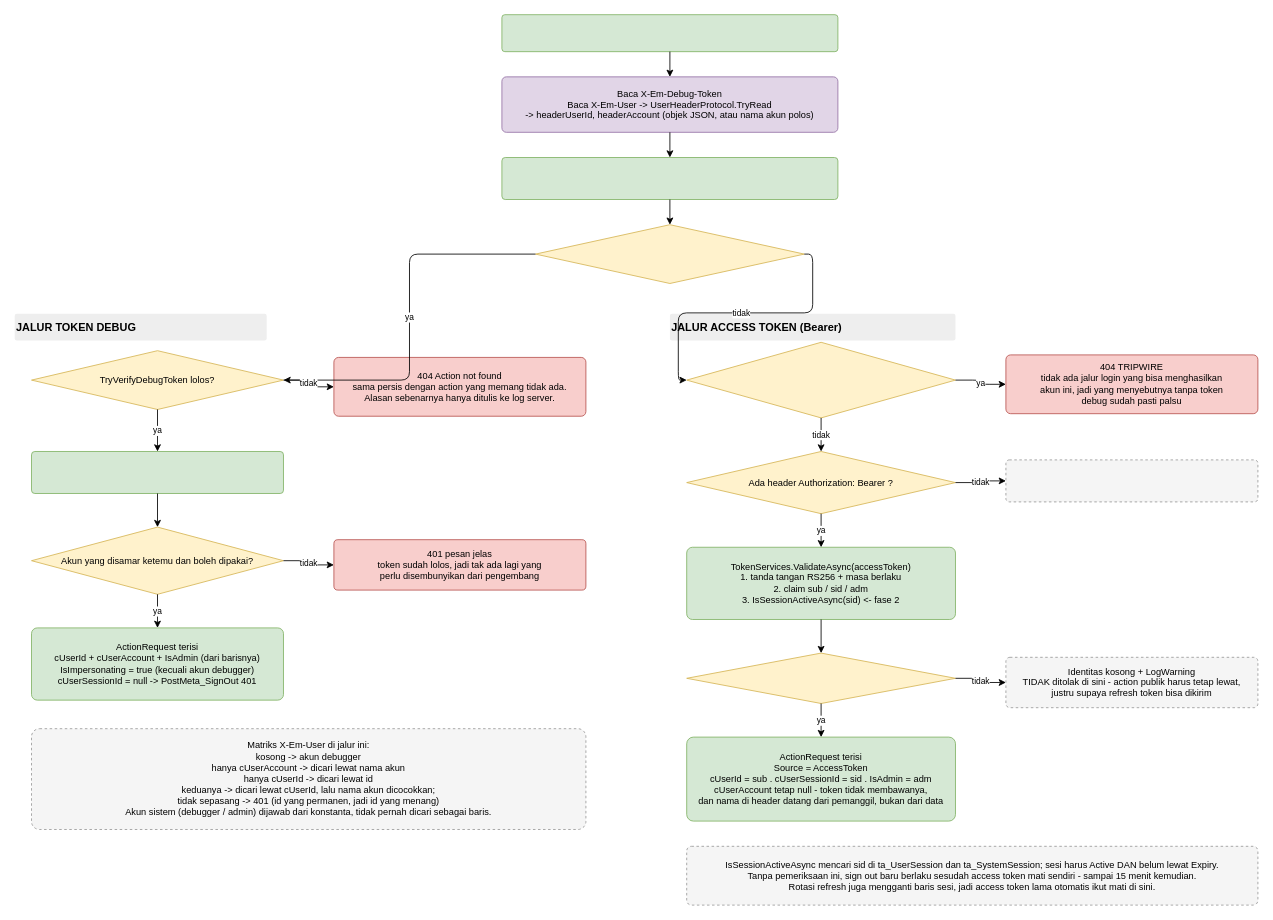
This 1273x920 diagram has some shape labels left out. Each missing label, with the centre of its shape:
"Ada X-Em-Debug-Token?" belongs at (x=669, y=254).
"Bangun ActionRequest dasar RouteLabel . CallerAddress . ReceivedAtUtc" belongs at (x=669, y=178).
"EmApp.ResolveCallerAsync(http, routeLabel)" belongs at (x=669, y=33).
"Header menyebut akun debugger? (nama akun ATAU Defaults.DebuggerUserId)" belongs at (x=821, y=379).
"Identitas kosong Source = None . IsAuthenticated = false" belongs at (x=1131, y=480).
"ResolveDebugCallerAsync Source = DebugToken . DebugKeyName terisi" belongs at (x=157, y=472).
"Valid?" belongs at (x=821, y=678).
